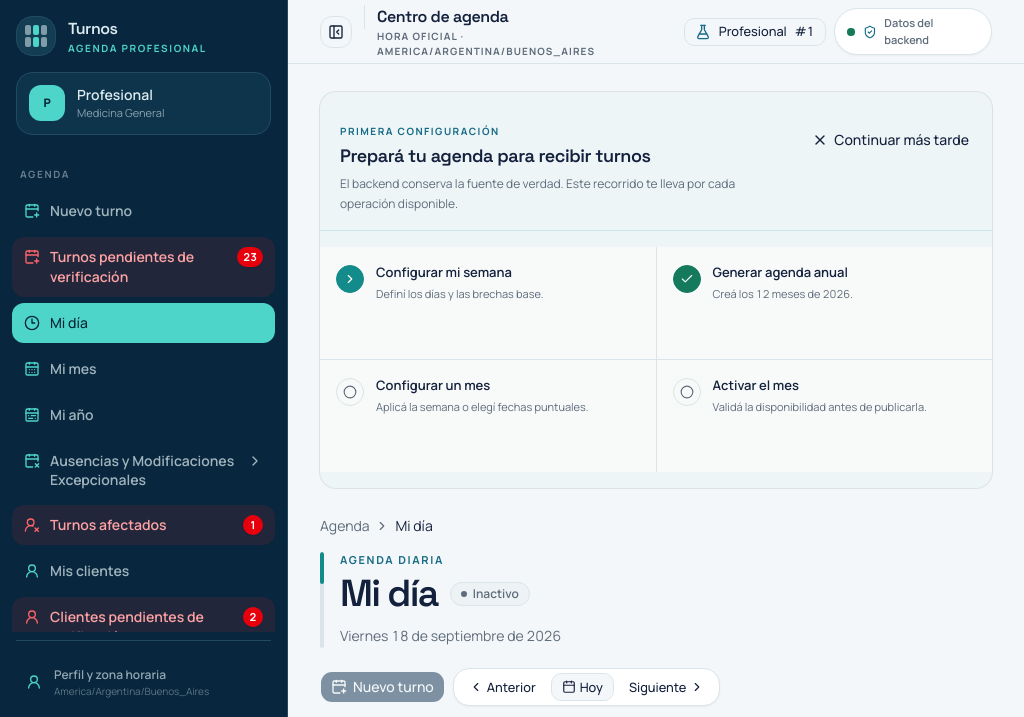
Test: Routing & Shell Navigation › permite expandir y contraer manualmente la barra lateral con el botón del encabezado
Click the button named "Contraer barra lateral".
click(336, 32)  # box [320,16,352,48]
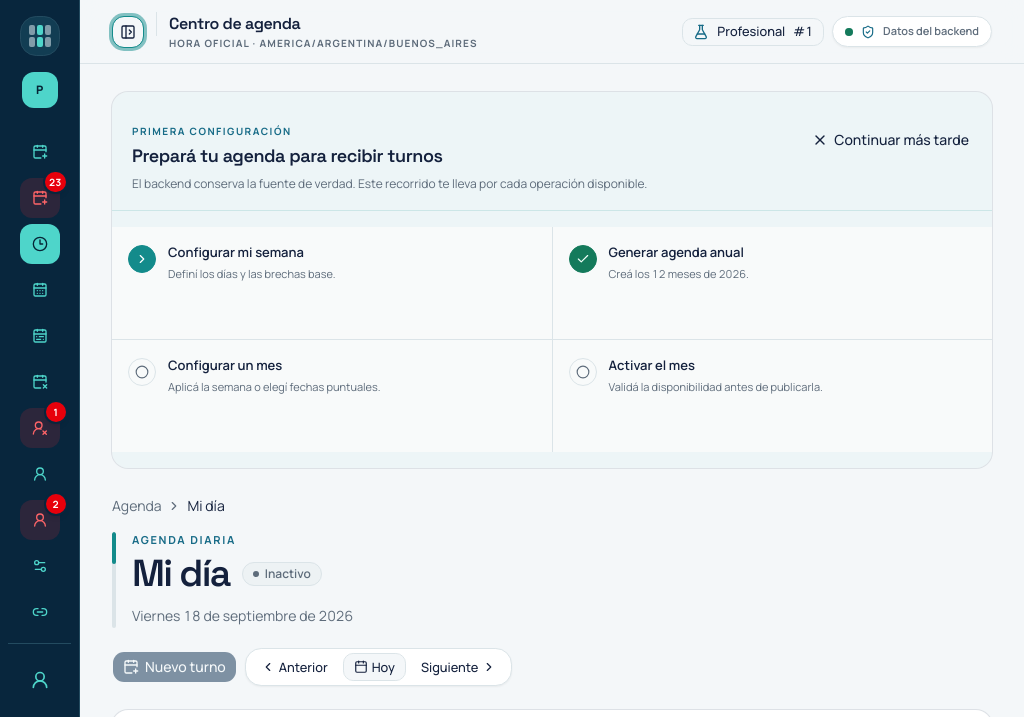
Now the button named "Expandir barra lateral" is shown
Click the button named "Expandir barra lateral".
click(128, 32)  # box [112,16,144,48]
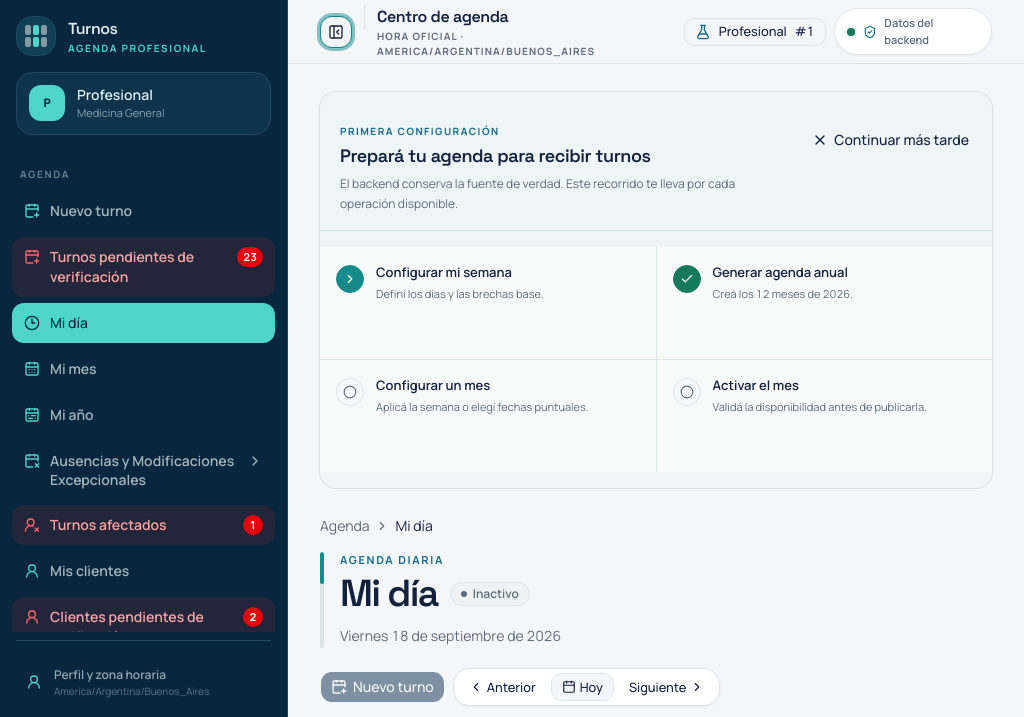
Now the button named "Contraer barra lateral" is shown, box [320,16,352,48]
